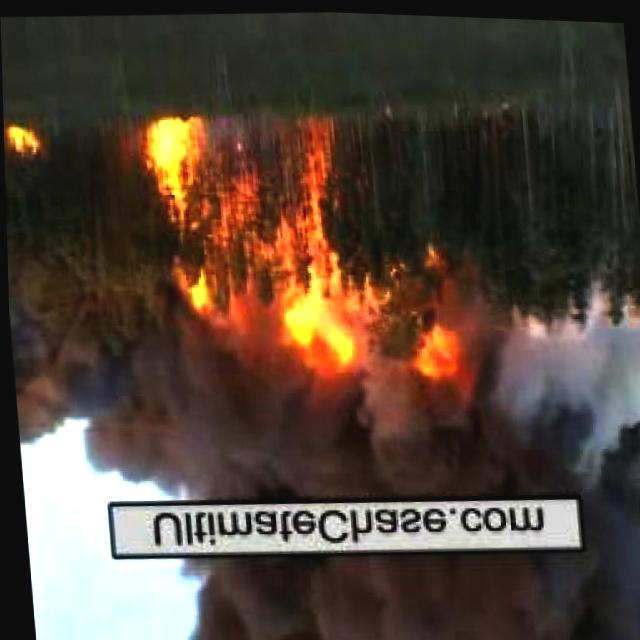Fire: (142, 106, 356, 379), (409, 292, 459, 384), (3, 125, 38, 156)
Smoke: (7, 288, 640, 520), (169, 528, 640, 640)
